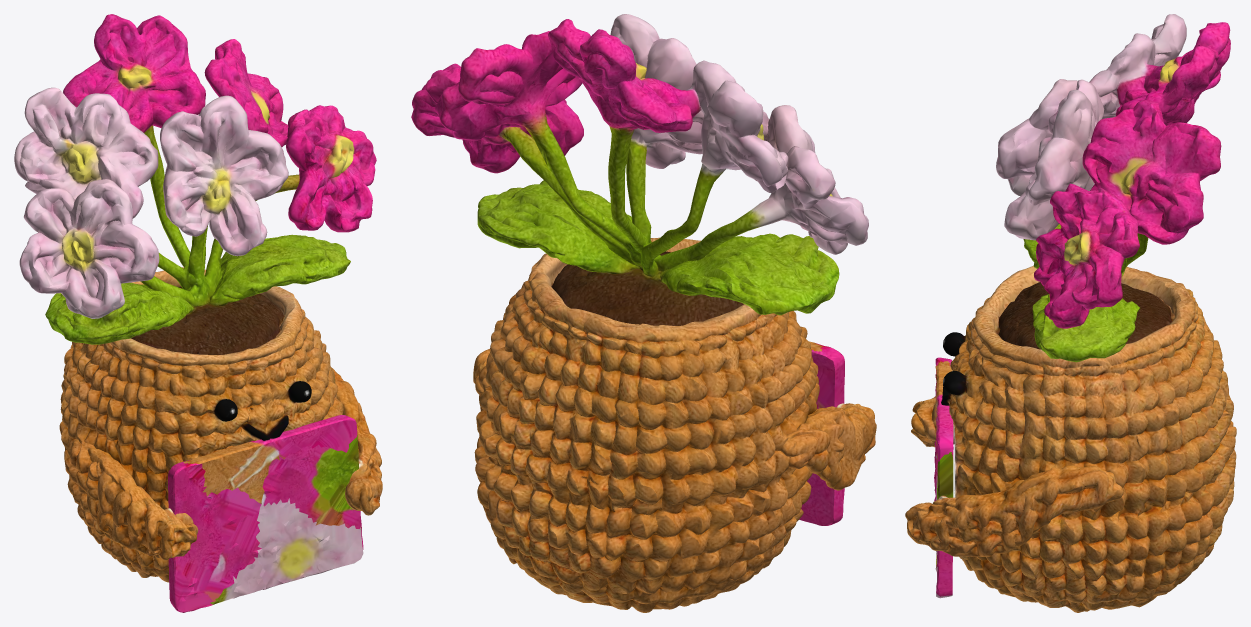
File: bloom.glb
3 views of the same model, side by side, from view 1: azimuth 30°, elevation 25°; view 2: azimuth 150°, elevation 25°; view 3: azimuth 270°, elevation 25° (orthographic). The views are drawn at different scales.
Visible parts, largest first — view 1: body, trim, card, handL, handR; view 2: trim, body, handL, card; view 3: trim, body, handR, card, handL.
Part boxes in pixels (<box>): body: <box>14,14,376,344</box>; trim: <box>59,267,343,582</box>; card: <box>168,415,363,612</box>; handL: <box>69,438,198,560</box>; handR: <box>332,368,382,515</box>; trim: <box>474,237,819,612</box>; body: <box>411,14,868,315</box>; handL: <box>780,403,876,490</box>; card: <box>799,341,844,525</box>; trim: <box>941,266,1236,612</box>; body: <box>996,14,1230,362</box>; handR: <box>905,465,1123,556</box>; card: <box>934,357,953,598</box>; handL: <box>911,396,954,447</box>.
Bounding box in the file's own units: 1.43 × 1.89 × 1.05.
Materials: 5 (5 with a texture image).
